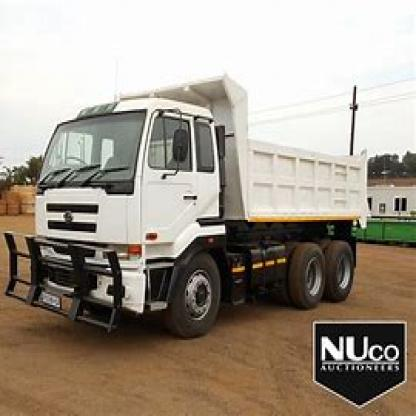dump_truck: (9, 72, 376, 348)
